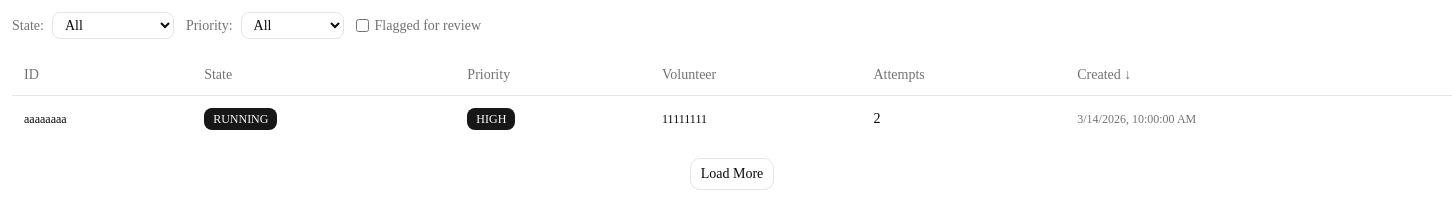
Scenario: WorkUnitTable › shows Load More button when hasMore is true and loads additional data
The width and height of the screenshot is (1452, 207).
expect the text "aaaaaaaa" is shown: met, box [12, 95, 192, 142]
Click Load More
Click the button "Load More". click: point(732, 174)
box: [690, 158, 774, 190]
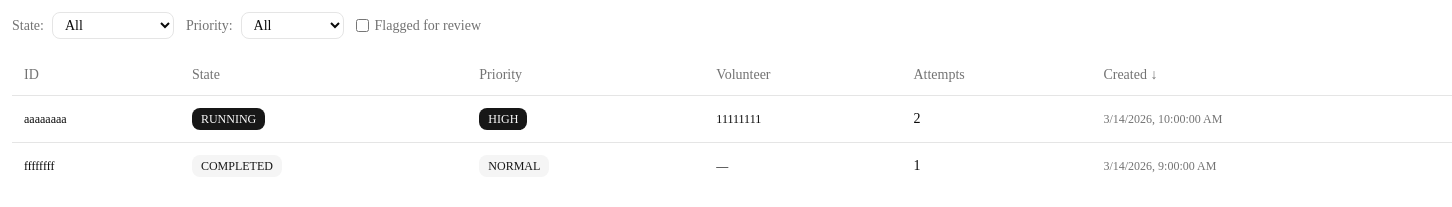
expect the text "ffffffff" is shown: met, box [12, 142, 180, 188]
expect the button "Load More" is gone: met
